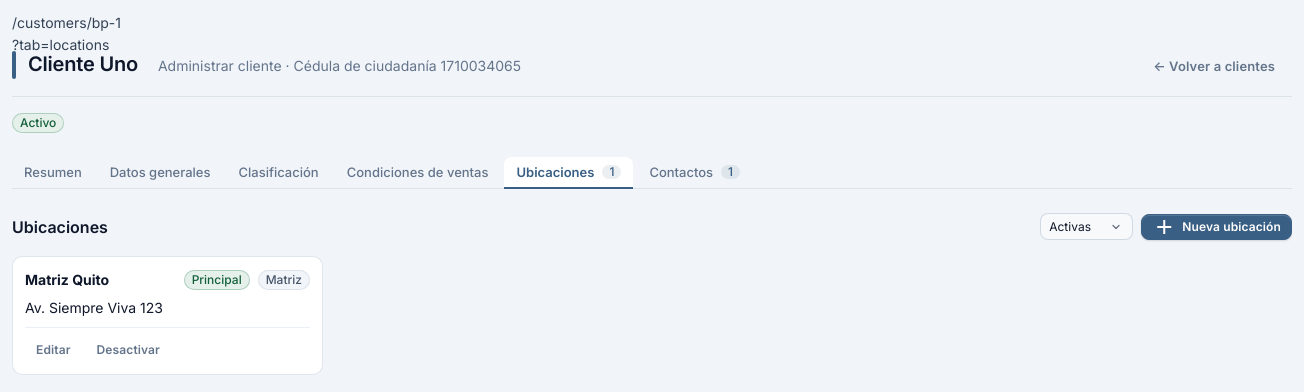
it: ficha unificada — nombres accesibles › los botones de alta no incluyen el texto del icono (aria-hidden): «Nueva ubicación», «Nuevo contacto»
Expected: the button "Nueva ubicación" is shown, x1=1141 y1=214 x2=1292 y2=240
What coordinates should you click on to do the following:
click the tab "Contactos 1"
I would click on:
 (695, 173)
Its box is x1=637 y1=157 x2=752 y2=189.
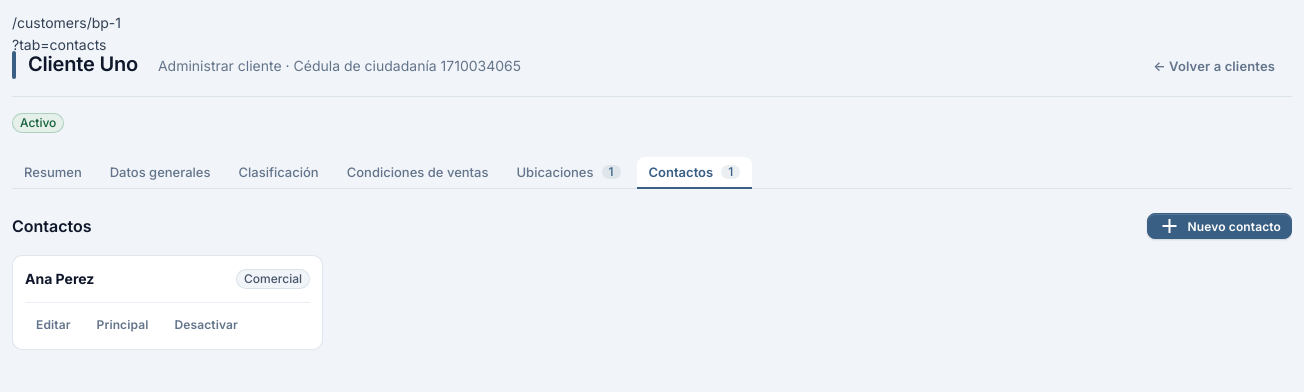
Expected: the button "Nuevo contacto" is shown, x1=1147 y1=213 x2=1292 y2=239
